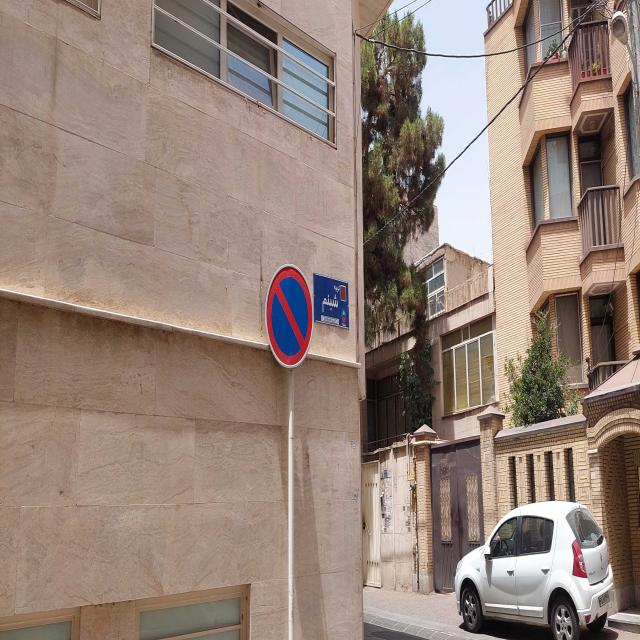forb_stopping: (264, 260, 314, 368)
